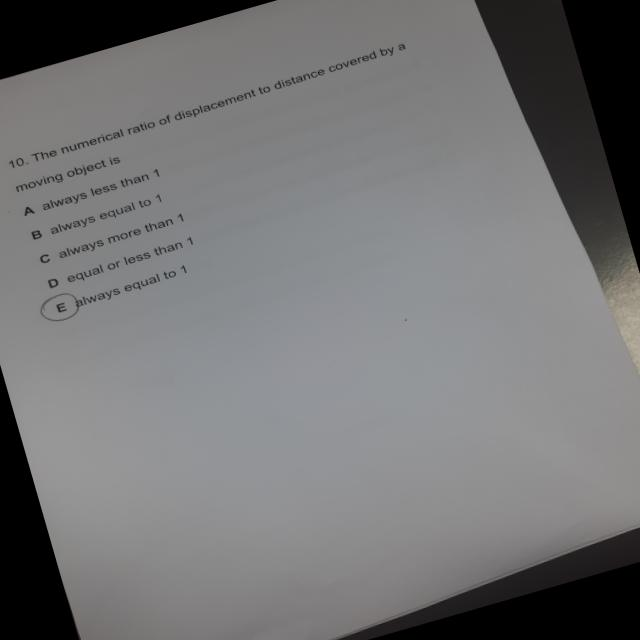E: (34, 288, 86, 326)
